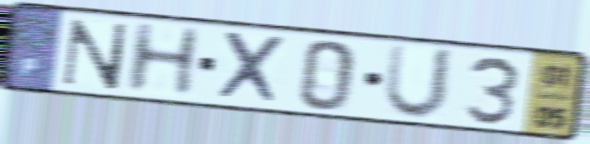0: (294, 37, 359, 113)
3: (459, 53, 523, 127)
H: (120, 20, 206, 97)
N: (57, 17, 132, 92)
U: (380, 41, 460, 123)
X: (213, 29, 290, 108)
